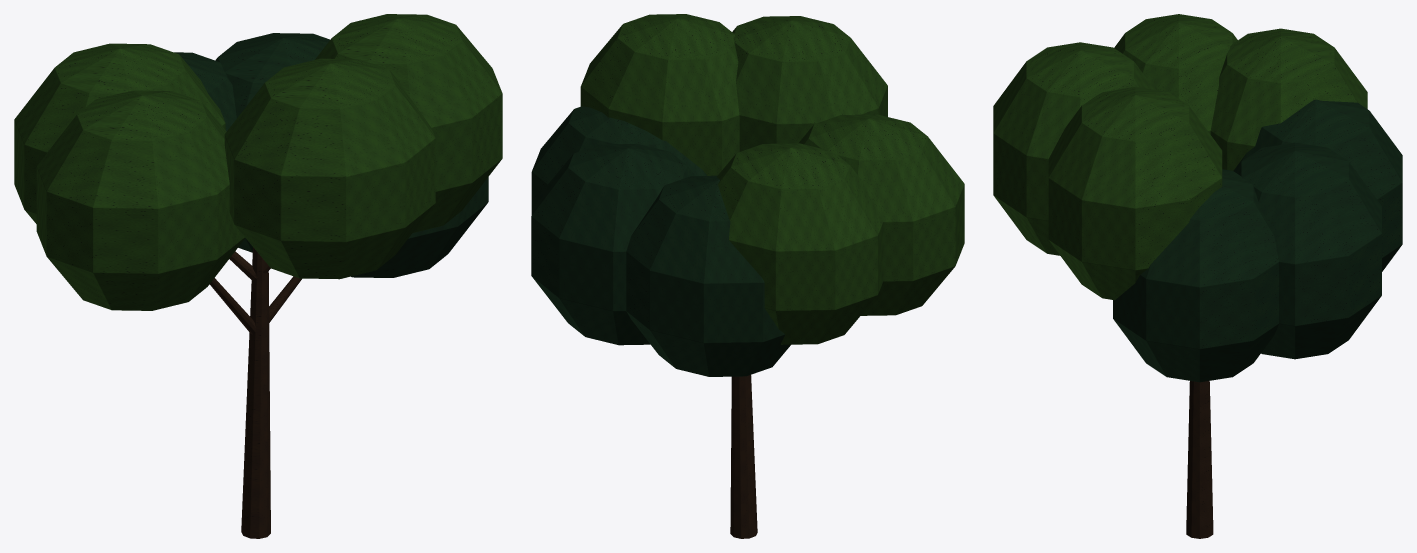
The model's file is PROP-96EAA477DA82_lod1.glb.
3 views of the same model, side by side, from view 1: azimuth 30°, elevation 25°; view 2: azimuth 150°, elevation 25°; view 3: azimuth 270°, elevation 25° (orthographic). The views are drawn at different scales.
Visible parts, largest first — view 1: leaf_crown.039, leaf_crown.038, trunk.041, branch.023; view 2: leaf_crown.039, leaf_crown.038, trunk.041; view 3: leaf_crown.039, leaf_crown.038, trunk.041.
Part boxes in pixels (x1,y1,x2,y2): leaf_crown.039: (14, 14, 502, 310); leaf_crown.038: (174, 33, 488, 277); trunk.041: (241, 247, 270, 538); branch.023: (209, 251, 301, 334); leaf_crown.039: (580, 14, 964, 344); leaf_crown.038: (531, 106, 790, 376); trunk.041: (730, 375, 757, 538); leaf_crown.039: (993, 14, 1367, 300); leaf_crown.038: (1113, 99, 1402, 382); trunk.041: (1186, 381, 1213, 538).
Size of the model in its own units: 8.16 by 9.03 by 6.87.
3 materials, 3 textured.
